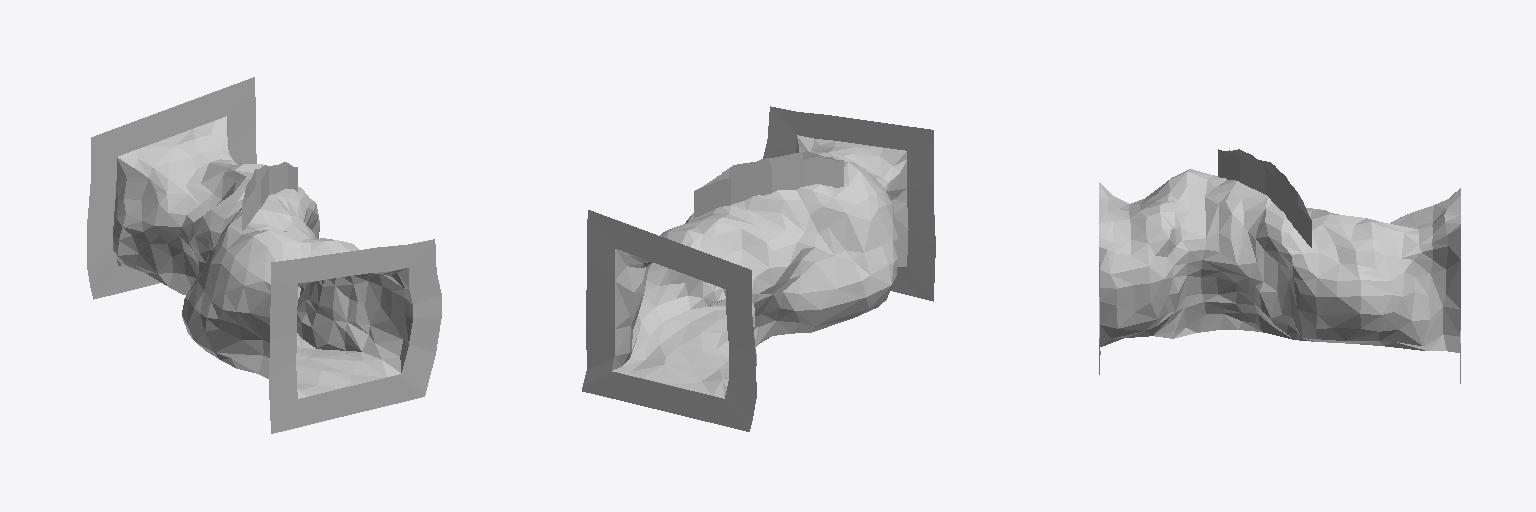
The model's file is Tunnel1_Straight_Crack.obj.
3 renders of one model, left to right at view 1: azimuth 30°, elevation 25°; view 2: azimuth 150°, elevation 25°; view 3: azimuth 270°, elevation 25°, orthographic.
Visible parts, largest first — view 1: Group43290; view 2: Group43290; view 3: Group43290.
Part boxes in pixels (x1,y1,x2,y2): Group43290: (87,77,441,433); Group43290: (582,106,935,431); Group43290: (1099,149,1460,383).
Size of the model in its own units: 521 by 485 by 851.